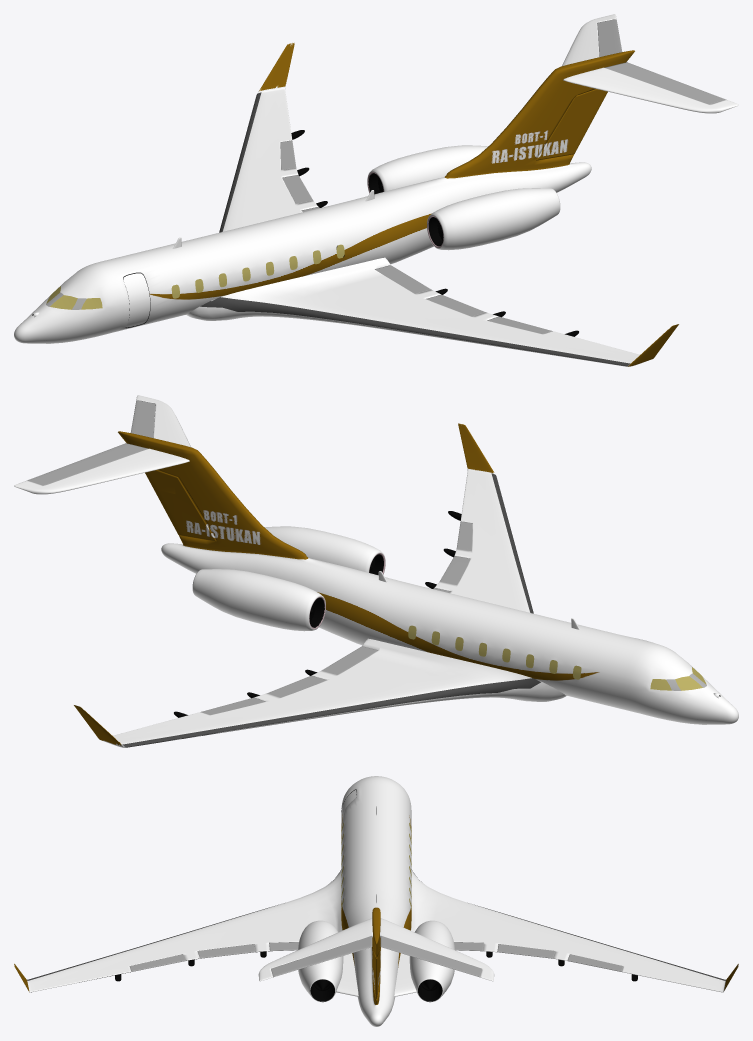
File: private-jet.glb
The picture shows the model from 3 angles, top to bottom: view 1: azimuth 30°, elevation 25°; view 2: azimuth 150°, elevation 25°; view 3: azimuth 270°, elevation 25°; orthographic projection. The views are drawn at different scales.
Visible parts, largest first — view 1: Object_11, Object_10, Object_7, Object_8, Object_4, Object_9; view 2: Object_11, Object_10, Object_7, Object_8, Object_4, Object_9; view 3: Object_11, Object_7, Object_9, Object_10, Object_8.
Part boxes in pixels (<box>): Object_11: <box>14,14,738,366</box>; Object_10: <box>259,43,678,366</box>; Object_7: <box>280,19,725,333</box>; Object_8: <box>200,92,630,366</box>; Object_4: <box>46,244,344,309</box>; Object_9: <box>32,23,597,336</box>; Object_11: <box>14,395,738,747</box>; Object_10: <box>74,423,494,745</box>; Object_7: <box>27,400,472,714</box>; Object_8: <box>122,473,540,747</box>; Object_4: <box>408,625,706,690</box>; Object_9: <box>155,405,720,717</box>; Object_11: <box>14,776,738,1026</box>; Object_7: <box>129,936,623,977</box>; Object_9: <box>31,789,637,1001</box>; Object_10: <box>14,907,738,1004</box>; Object_8: <box>27,869,725,980</box>.
Bounding box in the file's own units: 26.22 × 6.26 × 26.4.
8 materials, 2 textured.
